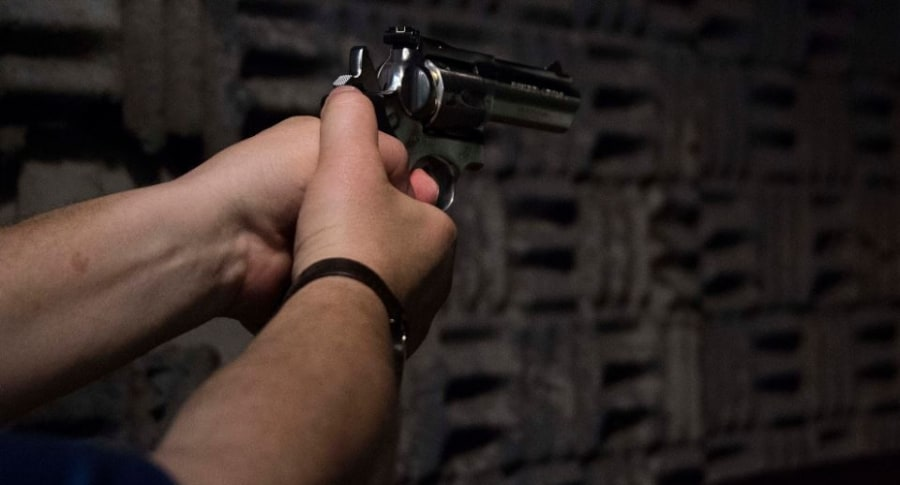Revolver: (300, 10, 603, 235)
